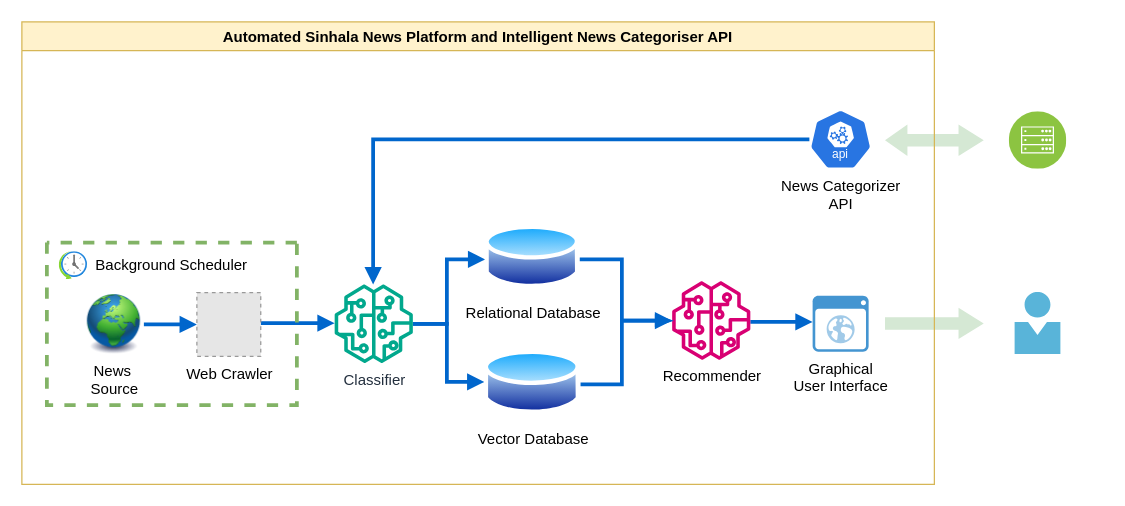
This 1125x506 diagram has some shape labels left out. Grey dashed boxes stand in for pictures. The shapes that lost their labels are listed below. From the top down, each one's box as (x1, y1, x2, y2) in pixels, then its label:
(1009, 111, 1066, 169): External Application
(1014, 292, 1061, 354): Human User
